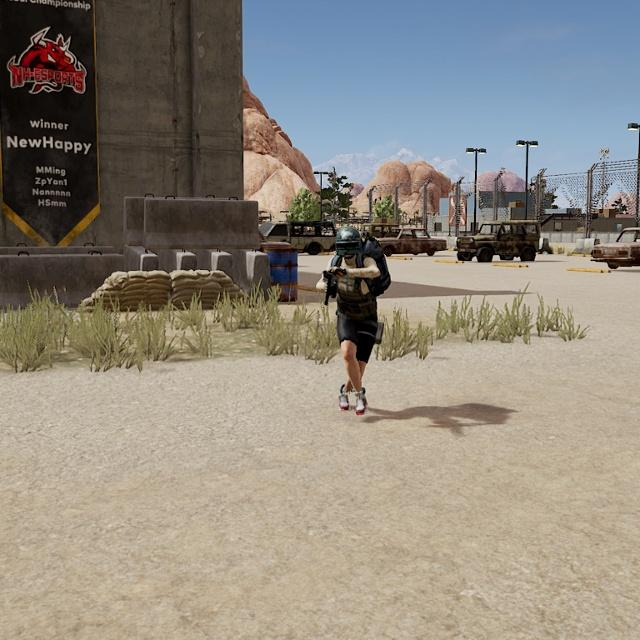head: (330, 225, 365, 263)
people: (320, 219, 393, 419)
